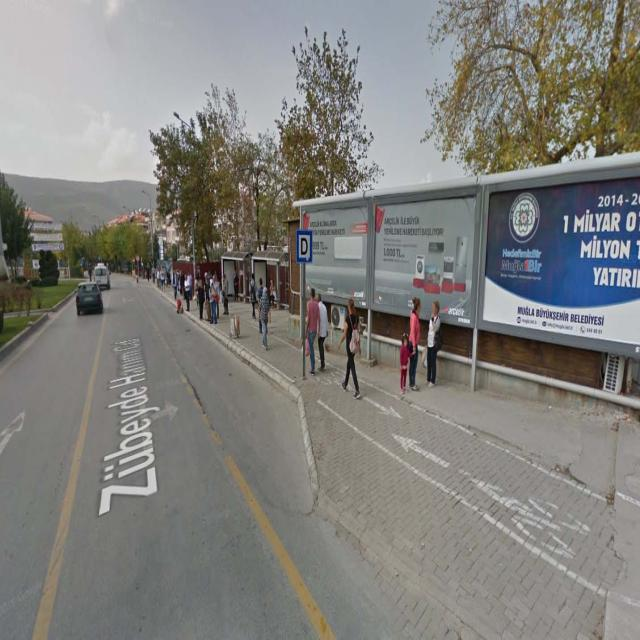durak: (297, 229, 312, 262)
